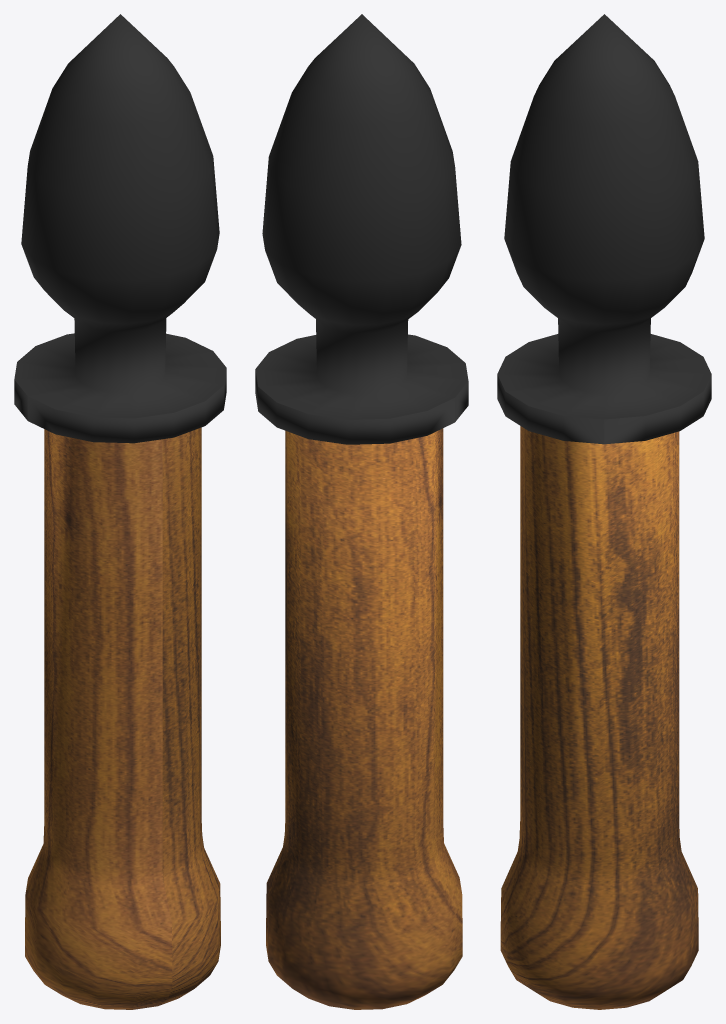
The model's file is LouisvillePlugger.fbx.
3 renders of one model, left to right at view 1: azimuth 30°, elevation 25°; view 2: azimuth 150°, elevation 25°; view 3: azimuth 270°, elevation 25°, orthographic.
Parts seen in each view (by area): view 1: Cylinder; view 2: Cylinder; view 3: Cylinder.
Boxes of the visible parts, x1,y1,x2,y2 form: Cylinder: (14,14,226,1009); Cylinder: (255,14,468,1009); Cylinder: (497,14,711,1009).
Size of the model in its own units: 0.0482 by 0.2396 by 0.0482.
